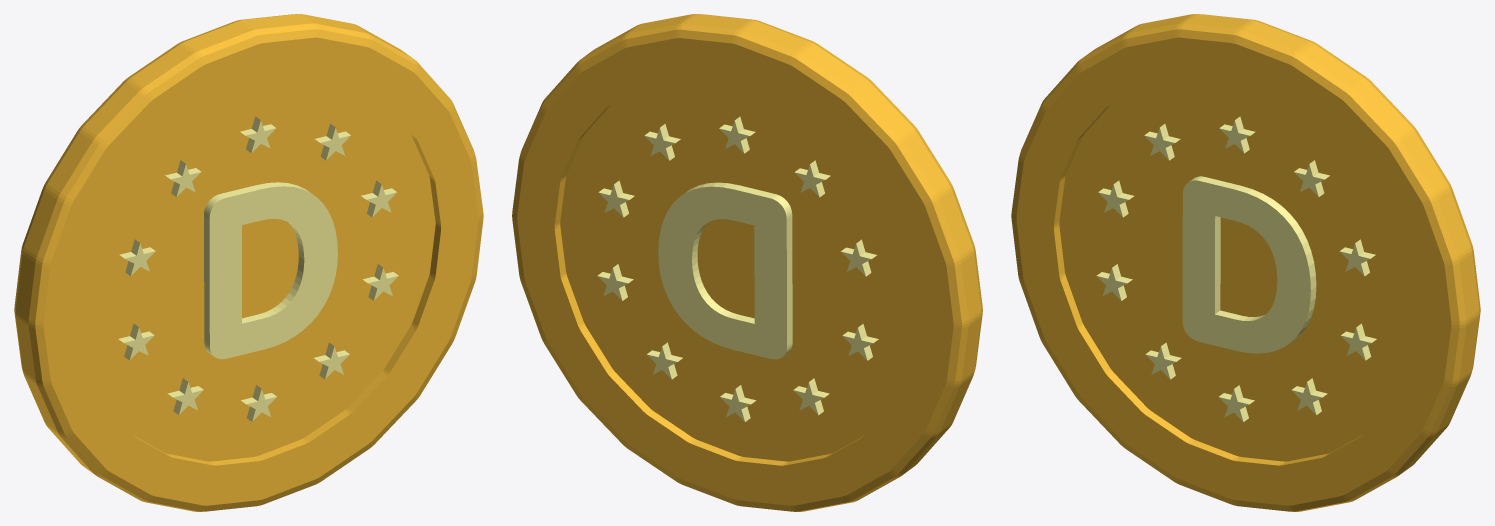
The model's file is coin-new2.glb.
The picture shows the model from 3 angles, left to right: view 1: azimuth 30°, elevation 25°; view 2: azimuth 150°, elevation 25°; view 3: azimuth 330°, elevation 25°; orthographic projection.
Visible parts, largest first — view 1: Curve.050; view 2: Curve.050; view 3: Curve.050.
Part boxes in pixels (<box>): Curve.050: <box>14,14,483,511</box>; Curve.050: <box>512,14,982,511</box>; Curve.050: <box>1011,14,1480,511</box>.
Size of the model in its own units: 2 by 2 by 0.1934.
